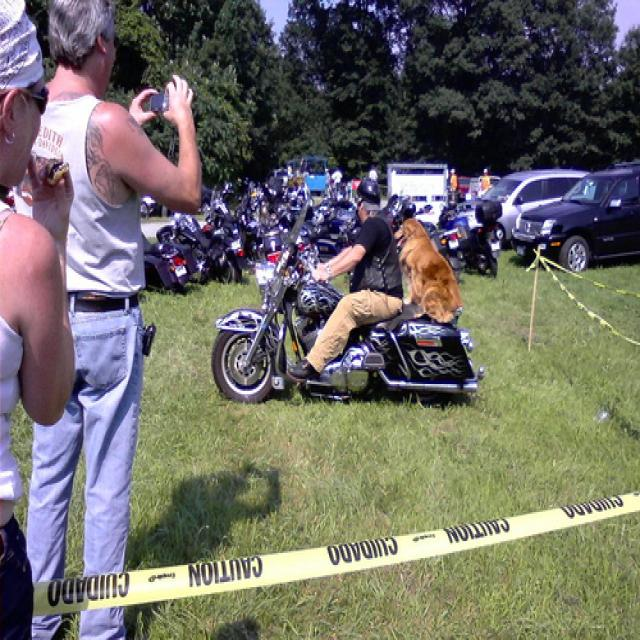motor: (207, 186, 490, 413), (157, 213, 252, 285), (313, 194, 416, 258), (442, 199, 506, 281), (142, 233, 199, 291), (420, 219, 464, 284), (240, 211, 278, 256)
